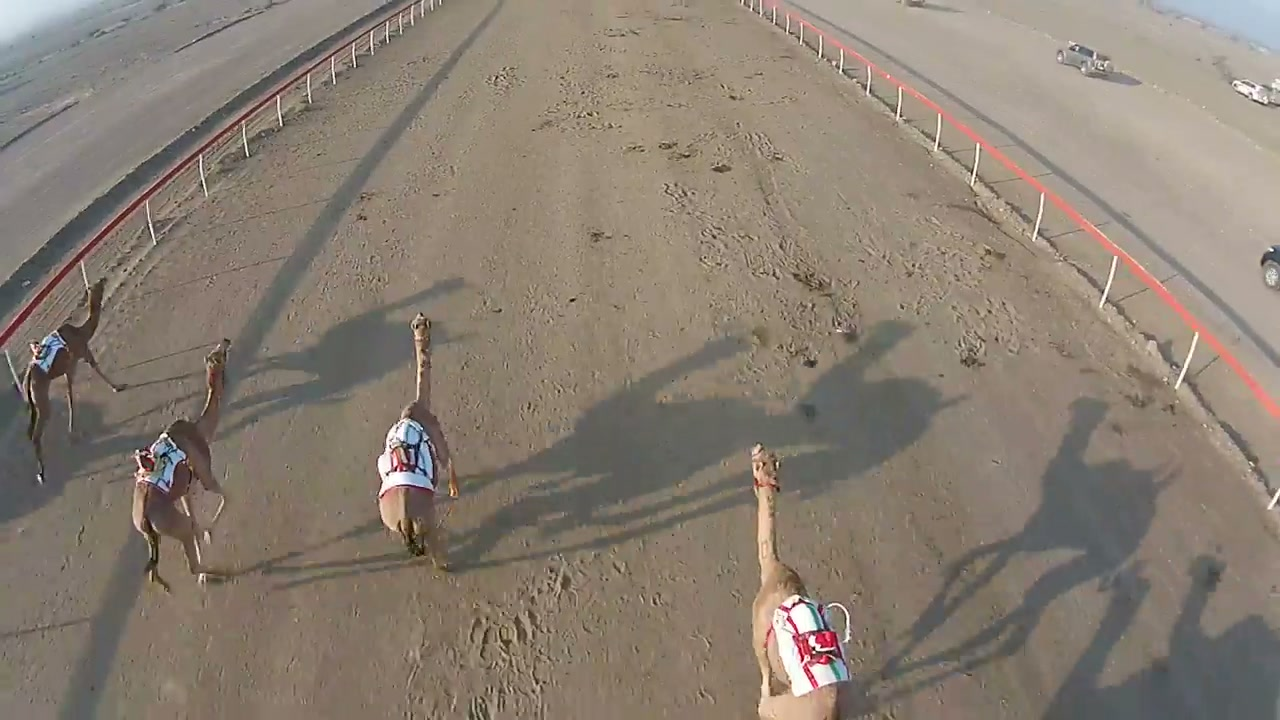animal_footprint: (453, 555, 586, 719)
